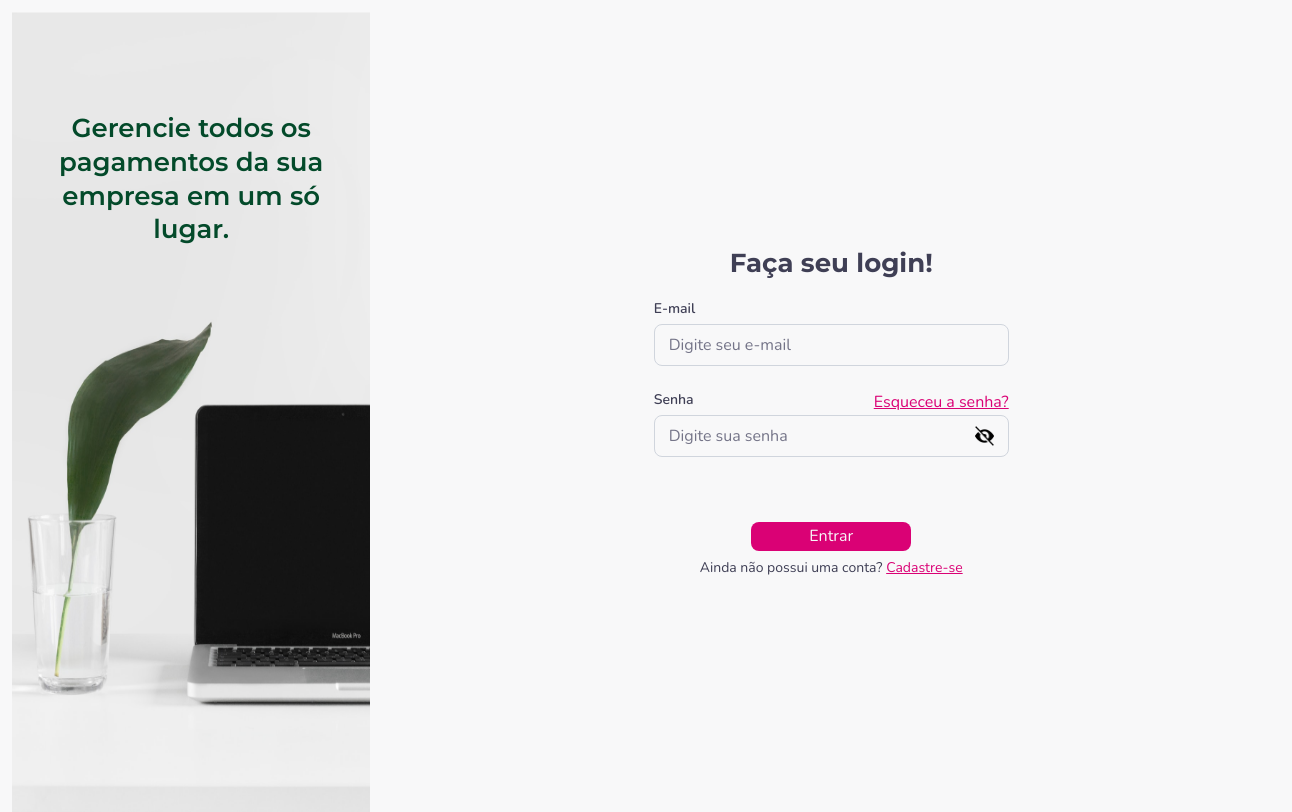
Test case: App › should login successfully
Type "john@example.com" into the field with id "email" at (832, 346), box top-left (669, 335), bottom-right (994, 356)
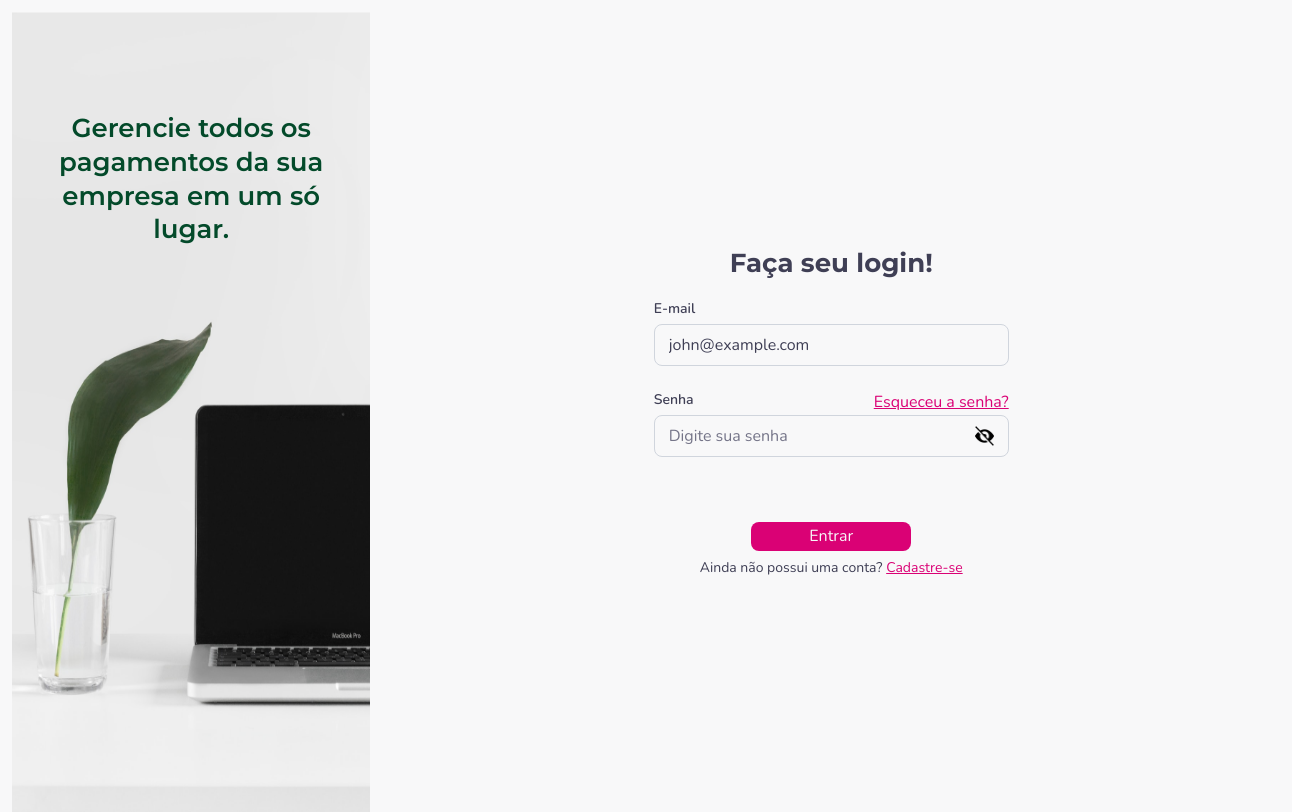
Type "johndoe123" into the password field labelled "Senha" at (822, 437), box top-left (669, 426), bottom-right (975, 447)
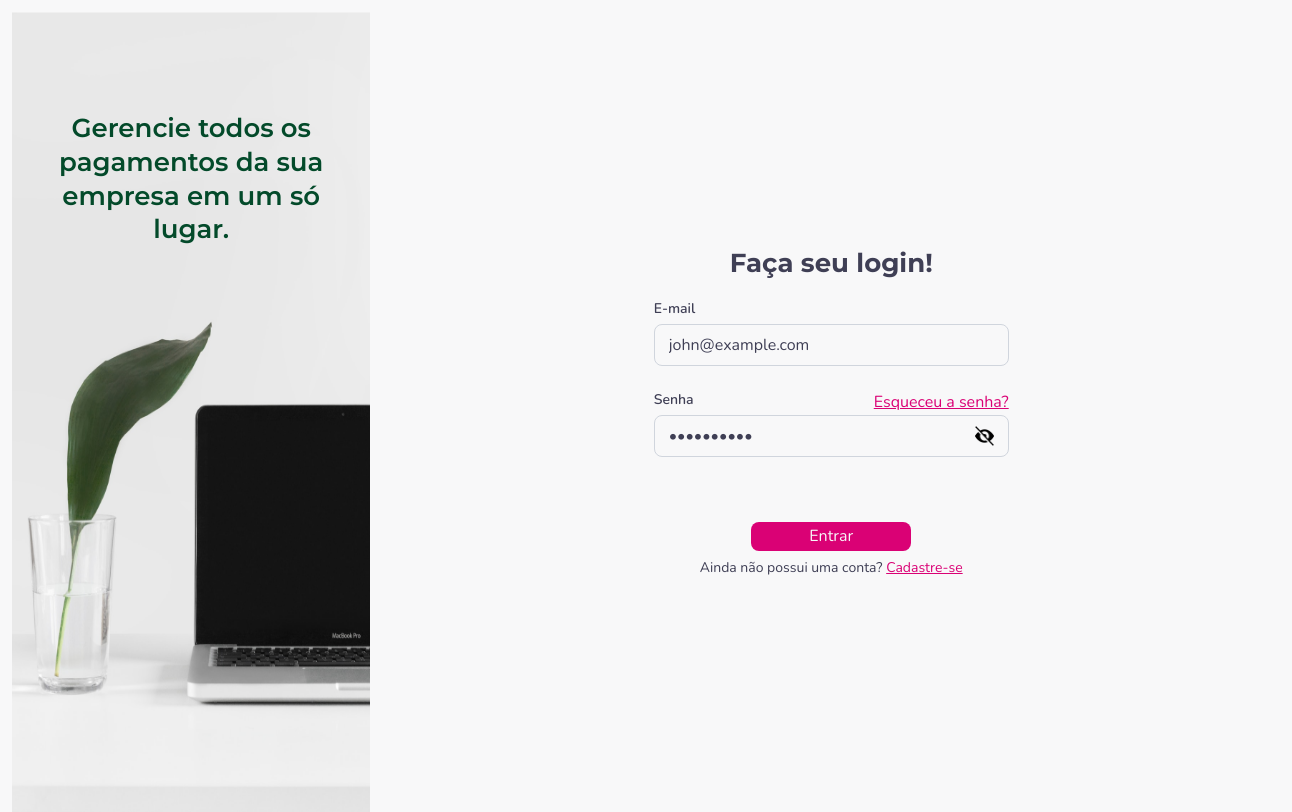
Click the button "Entrar" at (831, 537), box top-left (751, 522), bottom-right (911, 551)
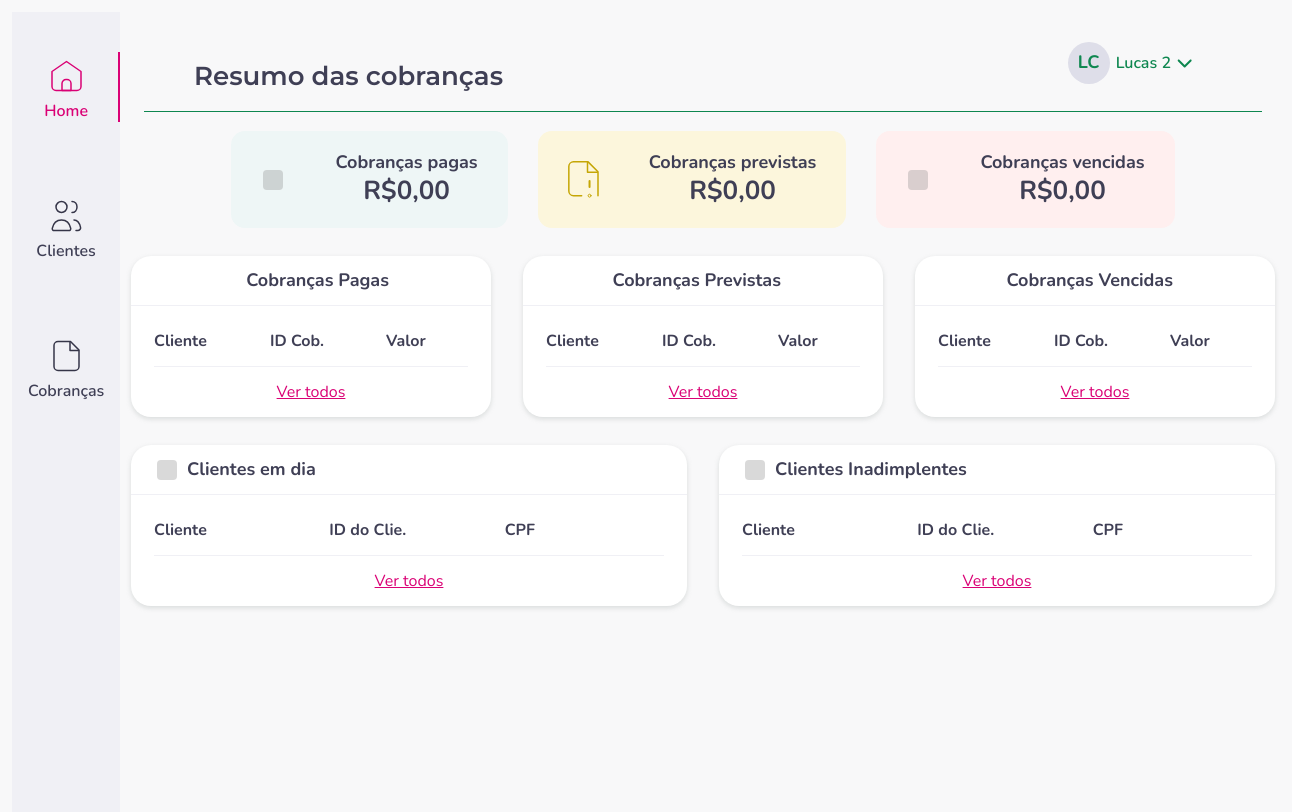
Expected: the heading "Resumo das cobranças" is shown, top-left (194, 60), bottom-right (503, 93)
